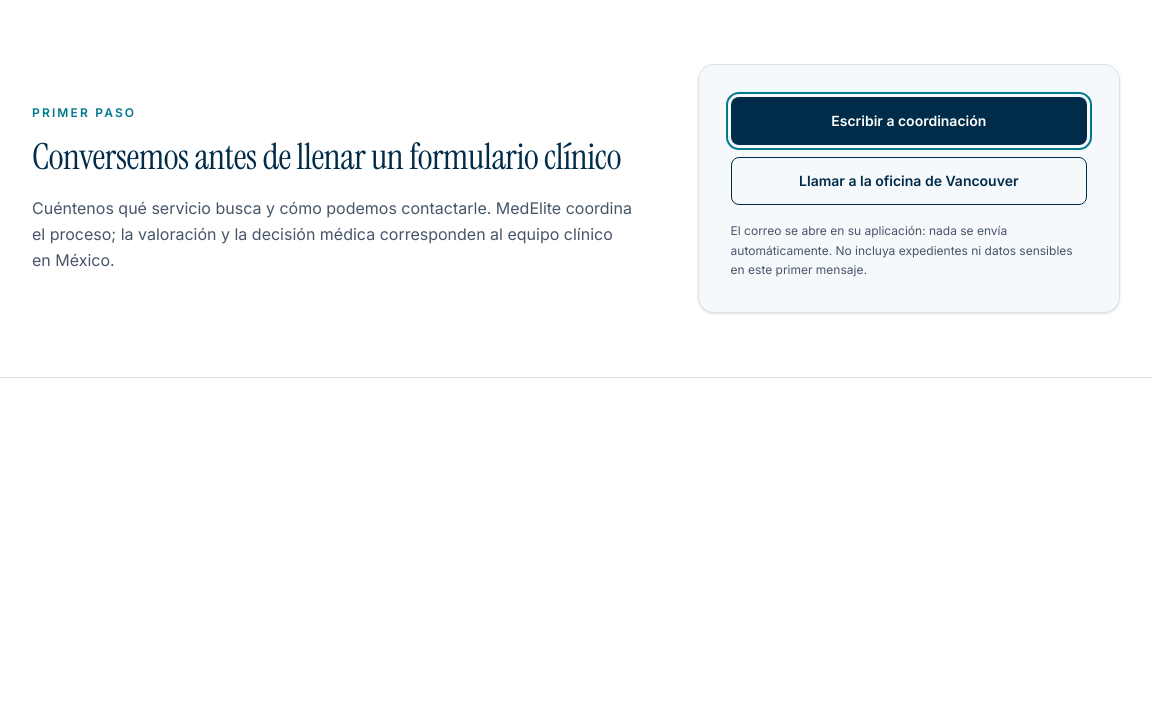
Test: SalesContact › offers an accessible, manual contact route in es
Expected: the element "Conversemos antes de llenar un formulario clínico" is shown, [0,0,1151,378]
Expected: the text "El correo se abre en su aplicación: nada se envía automáticamente. No incluya expedientes ni datos sensibles en este pri" is shown, [731,223,1073,277]
Step 1. Click the button "Escribir a coordinación" → click(909, 121), box [731,97,1087,145]
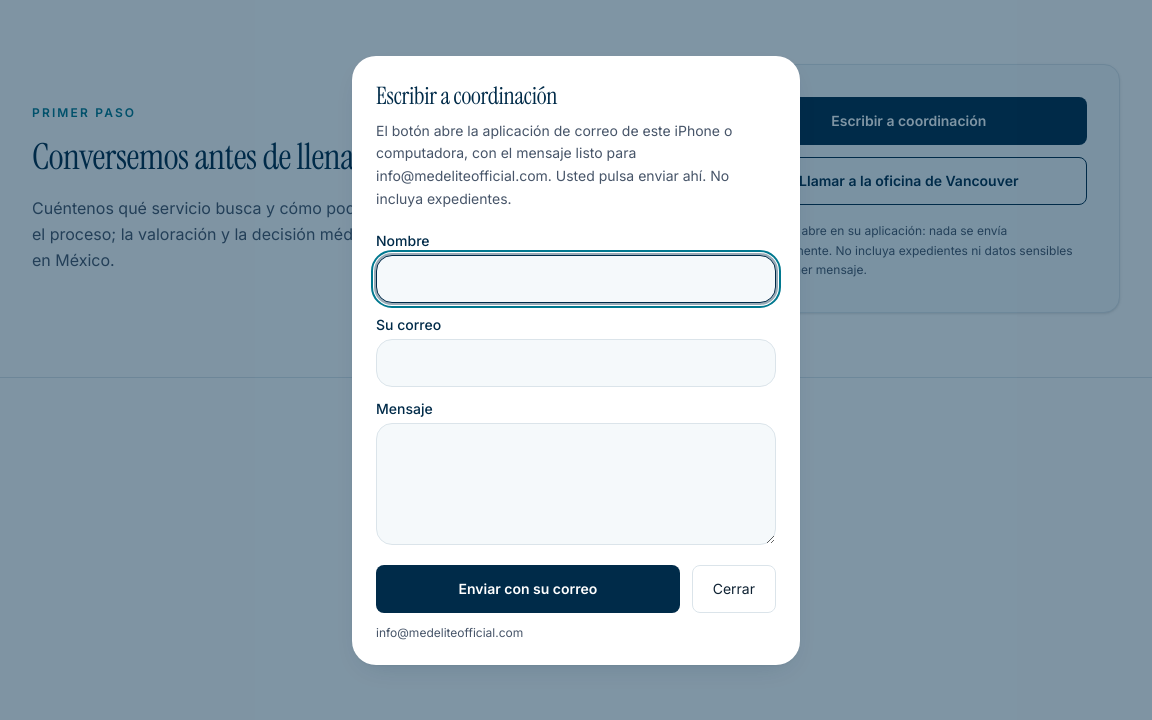
Result: the dialog is shown
